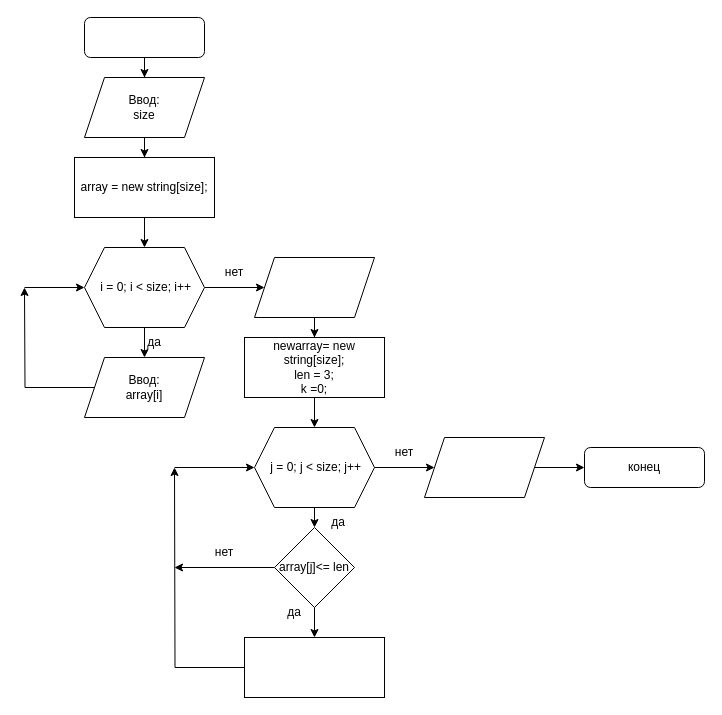
Image size: 722x715. Some labels were removed from this diagram. Here are the shapes that lost their labels. From the top down, the centre of each, then its label:
At pixel 144 37: "начало".
At pixel 314 287: "Вывод: array".
At pixel 484 467: "Вывод: newarray".
At pixel 314 667: "newarray[k] = array[j]; k++;".
